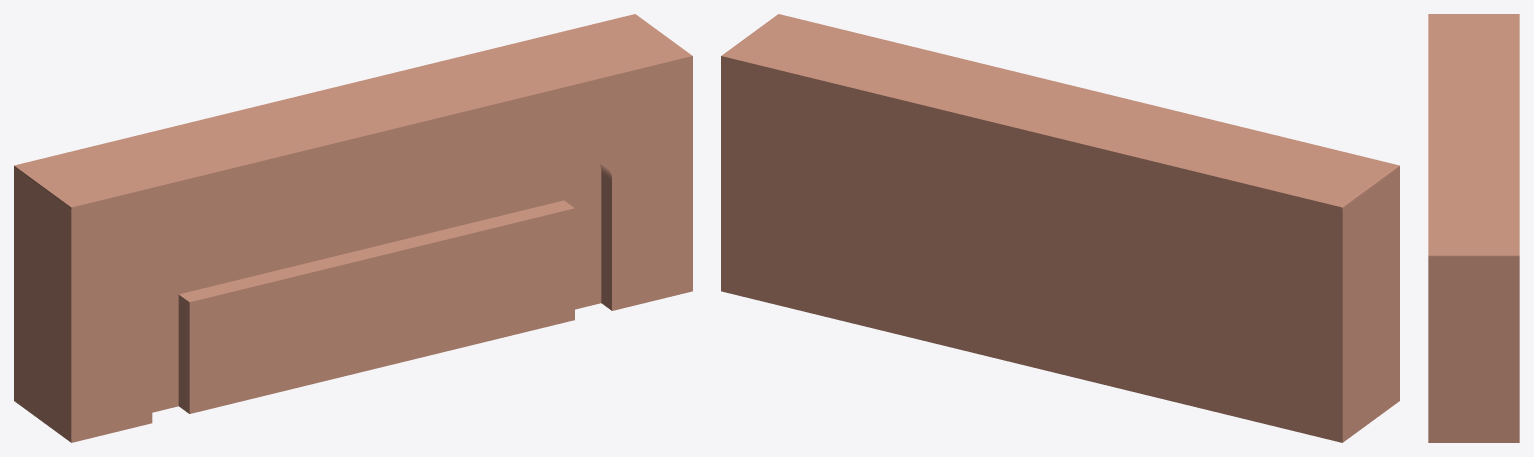
Rendered from gasket_channel_demo.glb.
3 renders of one model, left to right at view 1: azimuth 30°, elevation 25°; view 2: azimuth 150°, elevation 25°; view 3: azimuth 270°, elevation 25°, orthographic. The views are drawn at different scales.
Parts seen in each view (by area): view 1: gasket_lid_cutaway; view 2: gasket_lid_cutaway; view 3: gasket_lid_cutaway.
Boxes of the visible parts, x1,y1,x2,y2 form: gasket_lid_cutaway: (14, 14, 692, 442); gasket_lid_cutaway: (721, 14, 1399, 442); gasket_lid_cutaway: (1428, 14, 1519, 442).
Size of the model in its own units: 50 by 18.1 by 8.
